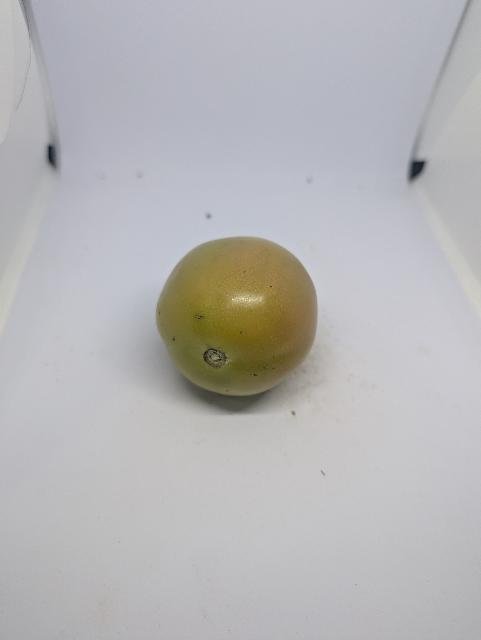breaker: (151, 231, 323, 401)
